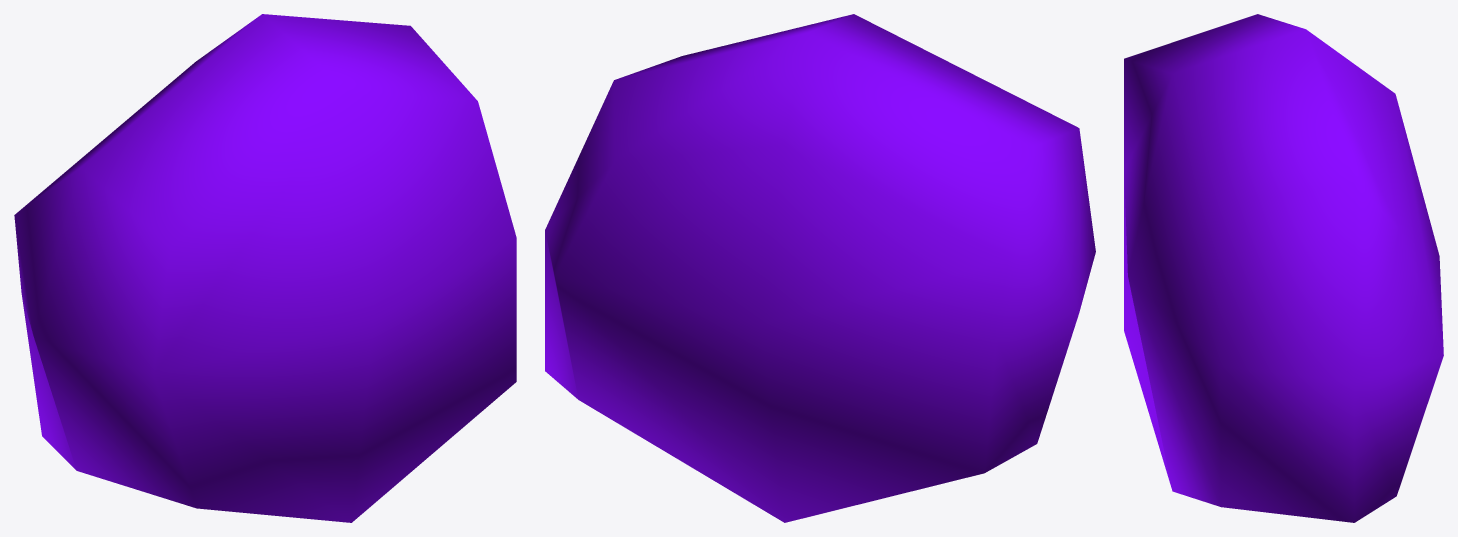
Rendered from CommonPeople2_shoulderBag_1_onGround_meshCollider.fbx.
The picture shows the model from 3 angles, left to right: view 1: azimuth 30°, elevation 25°; view 2: azimuth 150°, elevation 25°; view 3: azimuth 270°, elevation 25°; orthographic projection. The views are drawn at different scales.
Visible parts, largest first — view 1: CommonPeople2_shoulderBag_1_onGround_meshCollider; view 2: CommonPeople2_shoulderBag_1_onGround_meshCollider; view 3: CommonPeople2_shoulderBag_1_onGround_meshCollider.
Boxes of the visible parts, left/top/right/bottom form: CommonPeople2_shoulderBag_1_onGround_meshCollider: left=14, top=14, right=516, bottom=522; CommonPeople2_shoulderBag_1_onGround_meshCollider: left=545, top=14, right=1095, bottom=522; CommonPeople2_shoulderBag_1_onGround_meshCollider: left=1124, top=14, right=1443, bottom=522.
Bounding box in the file's own units: 21.27 × 18.96 × 12.15.
